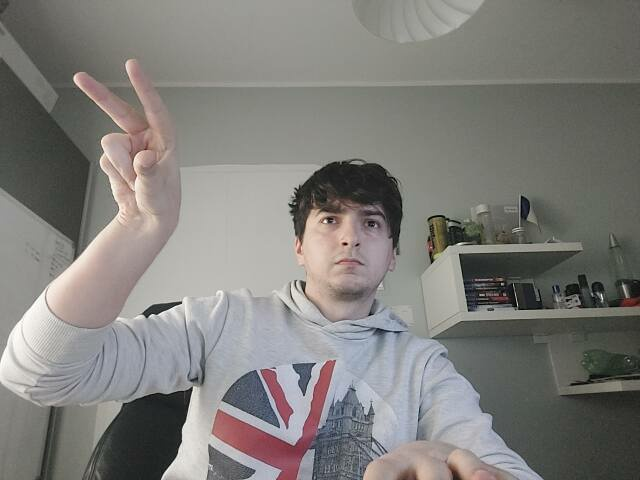no: (72, 59, 183, 224)
